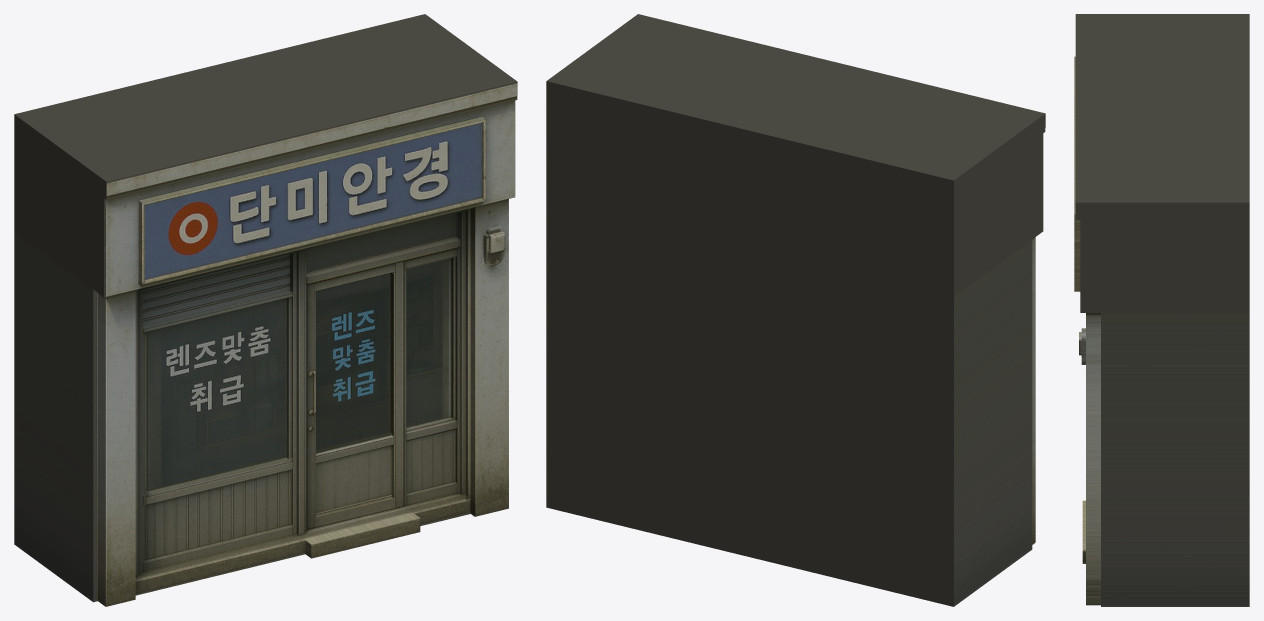
The model's file is asian_shop_4_abhayexe.glb.
The picture shows the model from 3 angles, left to right: view 1: azimuth 30°, elevation 25°; view 2: azimuth 150°, elevation 25°; view 3: azimuth 270°, elevation 25°; orthographic projection. The views are drawn at different scales.
Parts seen in each view (by area): view 1: Plane.018_0; view 2: Plane.018_0; view 3: Plane.018_0.
Part boxes in pixels (x1=…): Plane.018_0: x1=14, y1=14, x2=517, y2=606; Plane.018_0: x1=546, y1=14, x2=1045, y2=606; Plane.018_0: x1=1074, y1=14, x2=1249, y2=606.
Bounding box in the file's own units: 3 × 3 × 1.18.
2 materials, 2 textured.
